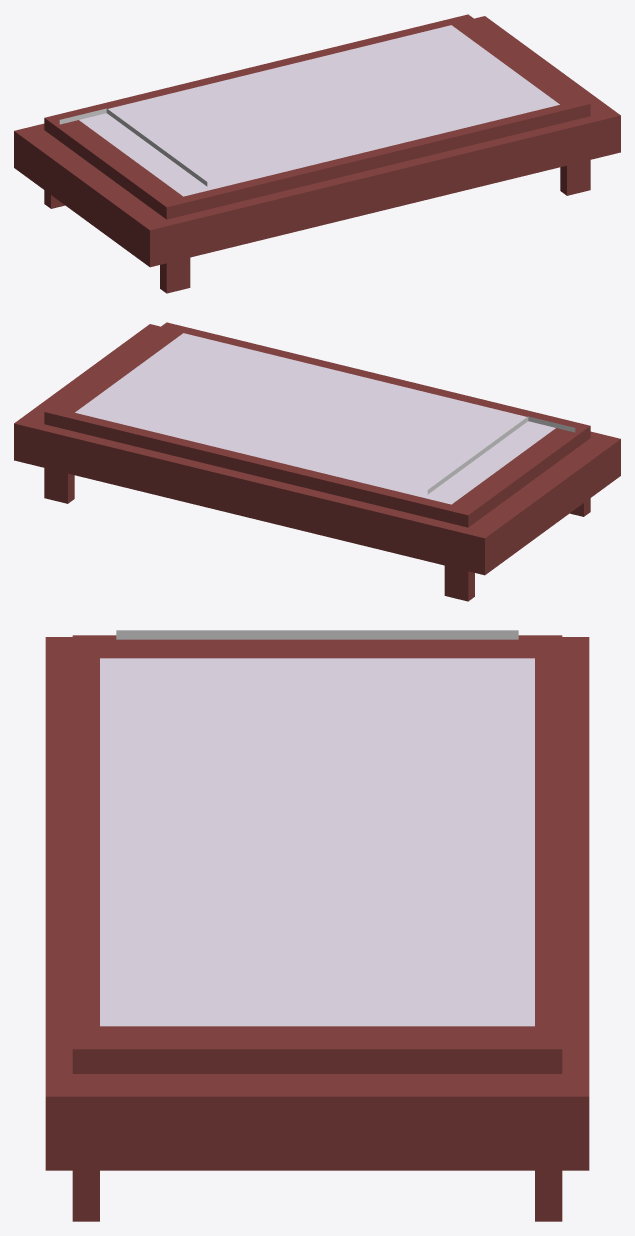
The model's file is Bed.glb.
3 renders of one model, top to bottom at view 1: azimuth 30°, elevation 25°; view 2: azimuth 150°, elevation 25°; view 3: azimuth 270°, elevation 25°, orthographic. The views are drawn at different scales.
Visible parts, largest first — view 1: Cube; view 2: Cube; view 3: Cube.
Part boxes in pixels (<box>): Cube: <box>14,14,620,293</box>; Cube: <box>14,322,620,601</box>; Cube: <box>45,630,589,1221</box>.
Bounding box in the file's own units: 2 × 0.3693 × 1.
1 material, 1 textured.
